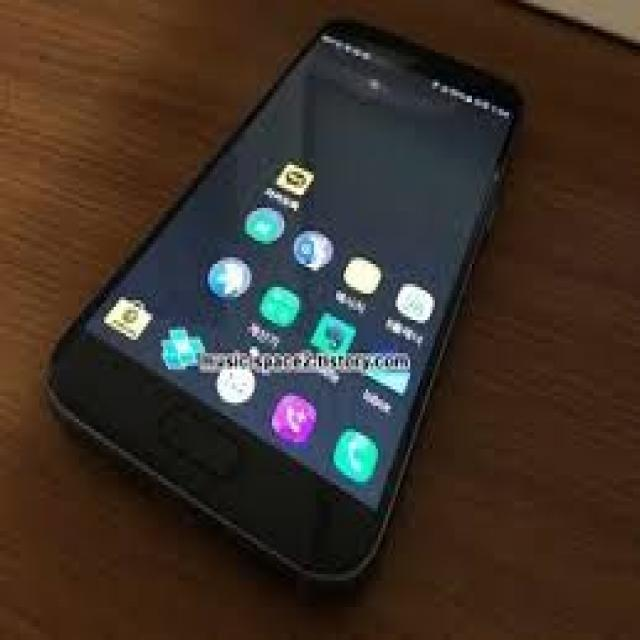Phone: (40, 10, 533, 592)
